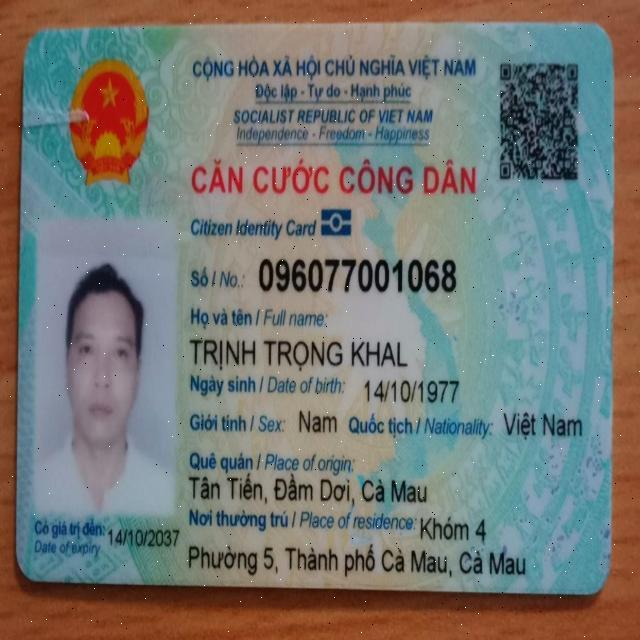current_place: (187, 536, 529, 583), (418, 509, 488, 546)
dob: (362, 376, 467, 409)
expire_date: (105, 525, 181, 559)
gender: (290, 406, 343, 444)
id: (254, 249, 462, 299)
name: (186, 324, 410, 376)
nationality: (498, 404, 591, 440)
origin_place: (184, 473, 433, 509)
qr: (498, 58, 584, 188)
